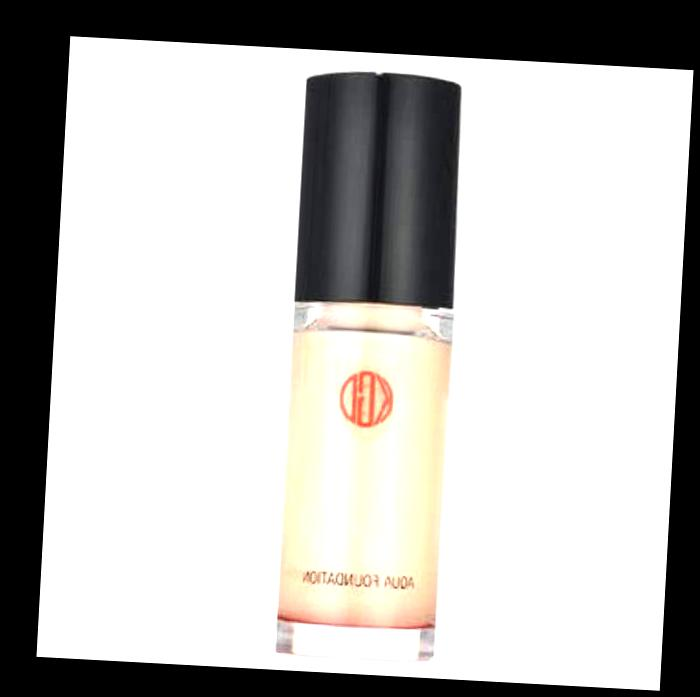cosmetic: (269, 69, 468, 666)
